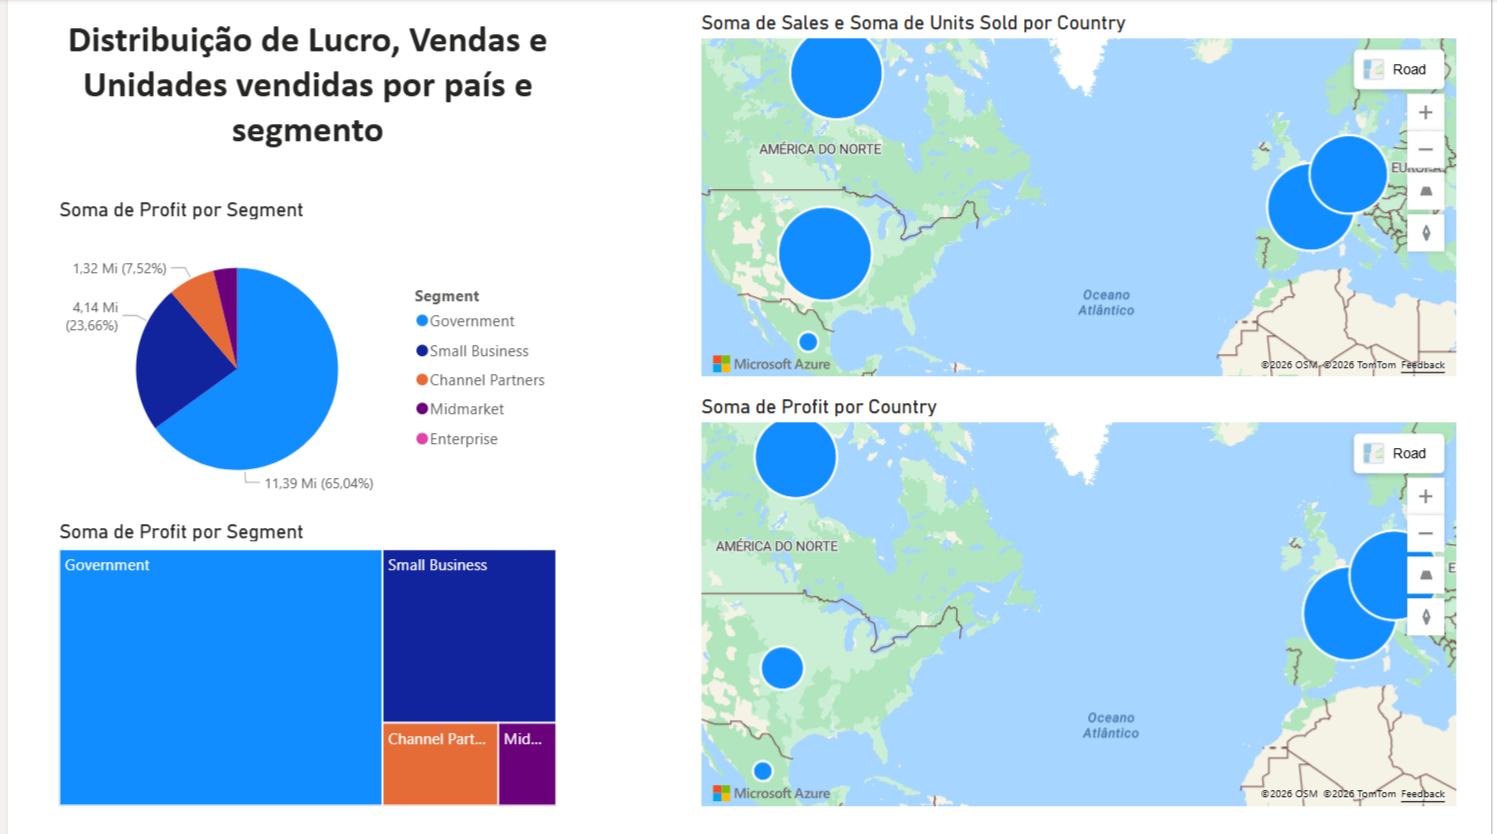

Layout of this report page (visuals, bound fields, positions):
{"tool":"powerbi","page":{"name":"Lucro e Vendas por Pais","canvas":[1280,720],"ordinal":2},"visuals":[{"type":"textbox","box":[39.9,9.7,438.7,170.2],"z":0},{"type":"pieChart","fields":{"Y":["Sum(financials.Profit)"],"Category":["financials.Segment"]},"box":[39.9,171.2,438.7,277.2],"z":1},{"type":"treemap","fields":{"Values":["Sum(financials.Profit)"],"Group":["financials.Segment"]},"box":[39.9,448.4,438.7,251.9],"z":2},{"type":"azureMap","fields":{"Size":["Sum(financials.Profit)"],"Category":["financials.Country"]},"box":[593.3,340.4,661.4,359.9],"z":3},{"type":"azureMap","fields":{"Size":["Sum(financials. Sales)"],"Category":["financials.Country"]},"box":[593.3,9.7,661.4,321],"z":4}]}

Visuals, with their boxes in screenshot pixels (x1, y1, x2, y2), scaled from the page's 1280x720 canvas onto the 1497x834 screenshot:
textbox: locate(47, 11, 560, 208)
pieChart - Sum(financials.Profit) x financials.Segment: locate(47, 198, 560, 519)
treemap - Sum(financials.Profit) x financials.Segment: locate(47, 519, 560, 811)
azureMap - Sum(financials.Profit) x financials.Country: locate(694, 394, 1467, 811)
azureMap - Sum(financials. Sales) x financials.Country: locate(694, 11, 1467, 383)
